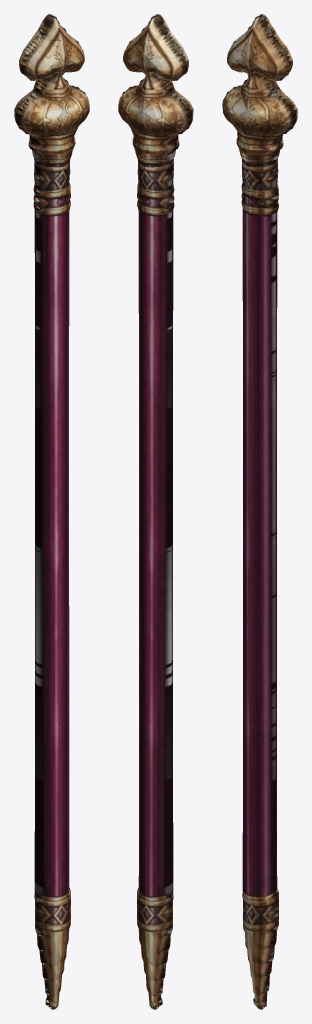
Rendered from w_cane.glb.
3 views of the same model, side by side, from view 1: azimuth 30°, elevation 25°; view 2: azimuth 150°, elevation 25°; view 3: azimuth 330°, elevation 25° (orthographic).
Visible parts, largest first — view 1: Cane; view 2: Cane; view 3: Cane.
Part boxes in pixels (box(x1,y1,x2,y2)): Cane: box(14, 14, 89, 1009); Cane: box(118, 14, 193, 1009); Cane: box(222, 14, 297, 1009).
Size of the model in its own units: 0.0733 by 0.9997 by 0.047.
Materials: 1 (1 with a texture image).
